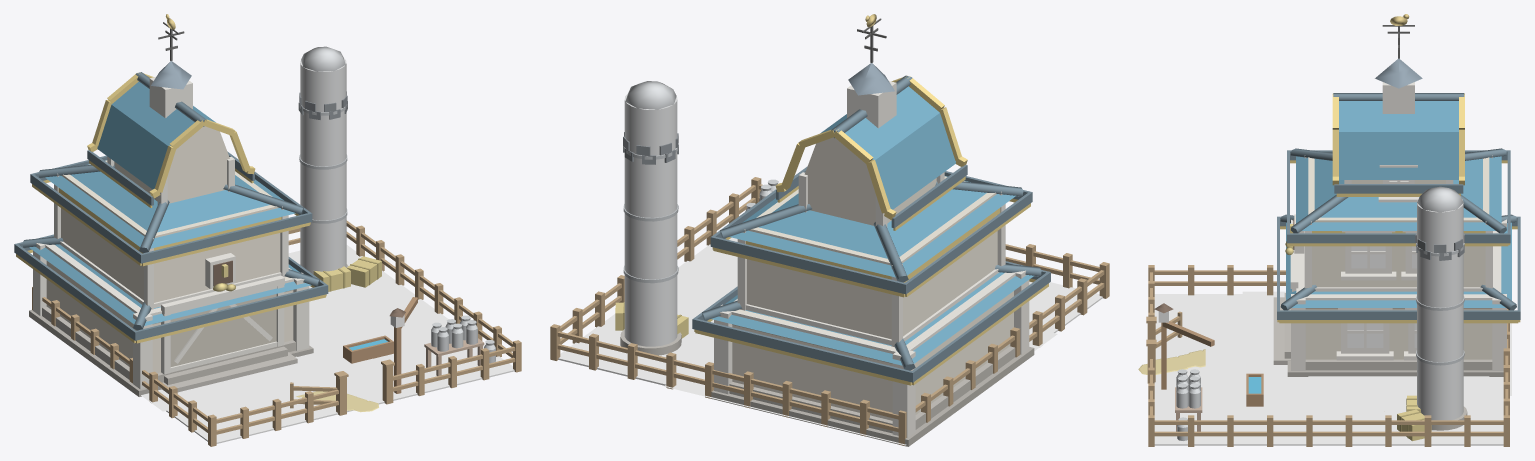
Rendered from cow_shed_2.glb.
3 renders of one model, left to right at view 1: azimuth 30°, elevation 25°; view 2: azimuth 150°, elevation 25°; view 3: azimuth 270°, elevation 25°, orthographic. The views are drawn at different scales.
Parts seen in each view (by area): view 1: body6, cow_shed_2, body2, body, body5; view 2: body6, cow_shed_2; view 3: body6, cow_shed_2, body5.
Part boxes in pixels (<box>): body6: <box>14,28,521,446</box>; cow_shed_2: <box>141,286,373,420</box>; body2: <box>223,286,277,359</box>; body: <box>170,299,223,372</box>; body5: <box>460,315,495,363</box>; body6: <box>550,25,1109,446</box>; cow_shed_2: <box>644,306,1057,445</box>; body6: <box>1138,26,1520,446</box>; cow_shed_2: <box>1205,291,1511,410</box>; body5: <box>1176,383,1200,440</box>.
Size of the model in its own units: 2.75 by 2.6 by 2.8.
